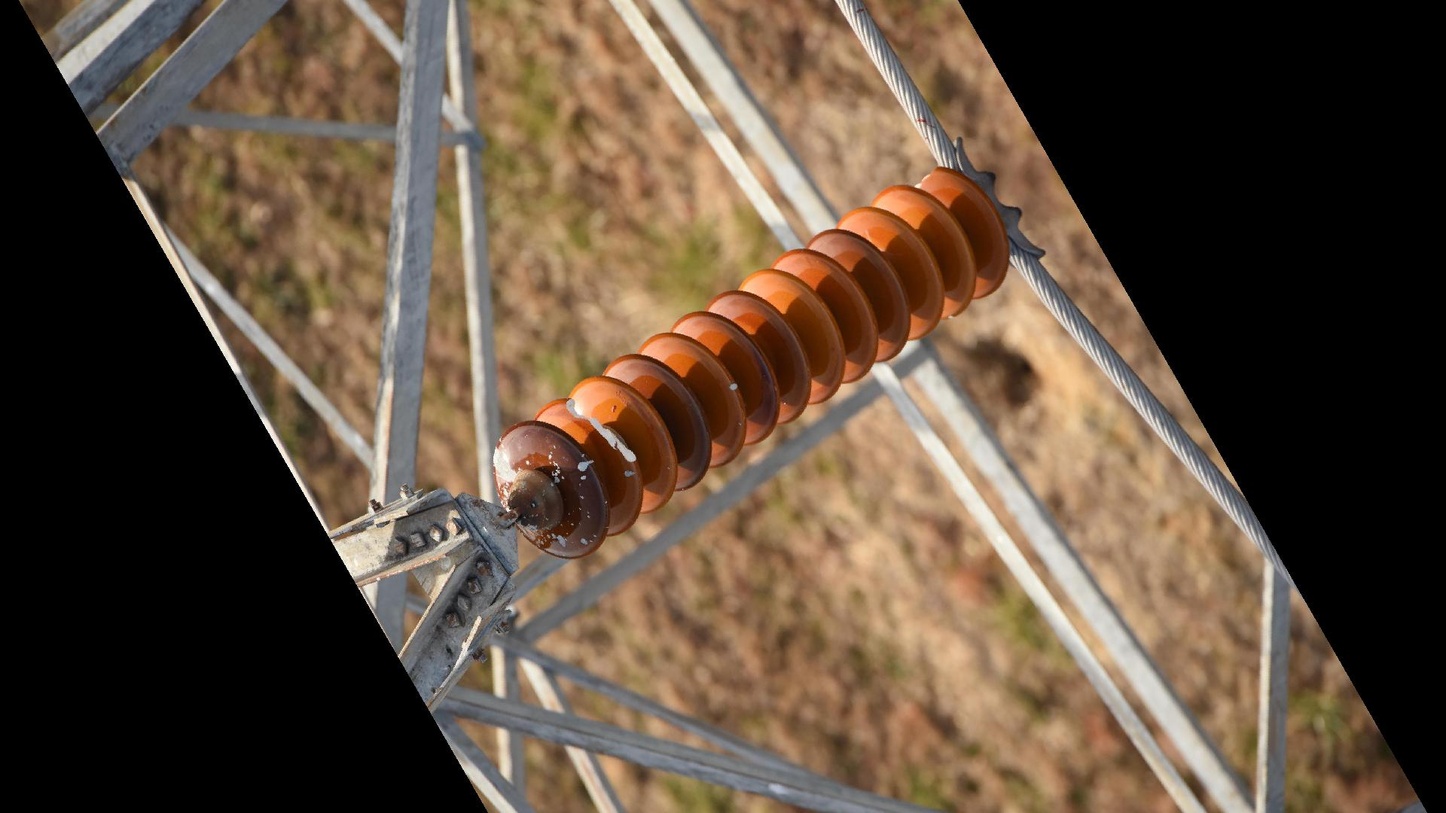insulator: (487, 163, 1014, 564)
insulator_breakage: (559, 391, 642, 473)
